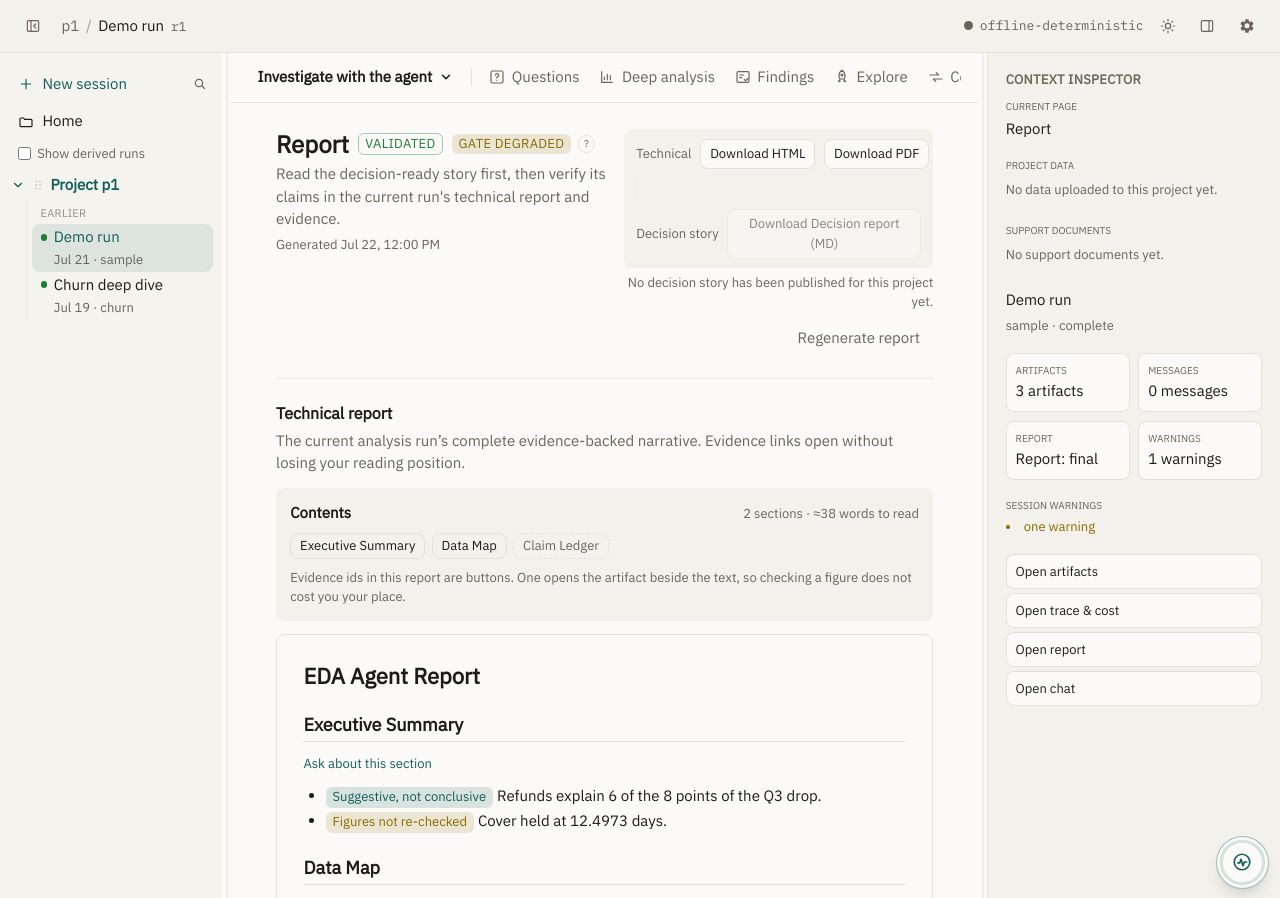
Report reading chrome › still explains a stored report's old gate verdict
expect the text "Gate degraded" is shown: met, box [452,134,571,154]
Click the button named "What is Evidence gate?": (586, 144) [578,135,595,153]
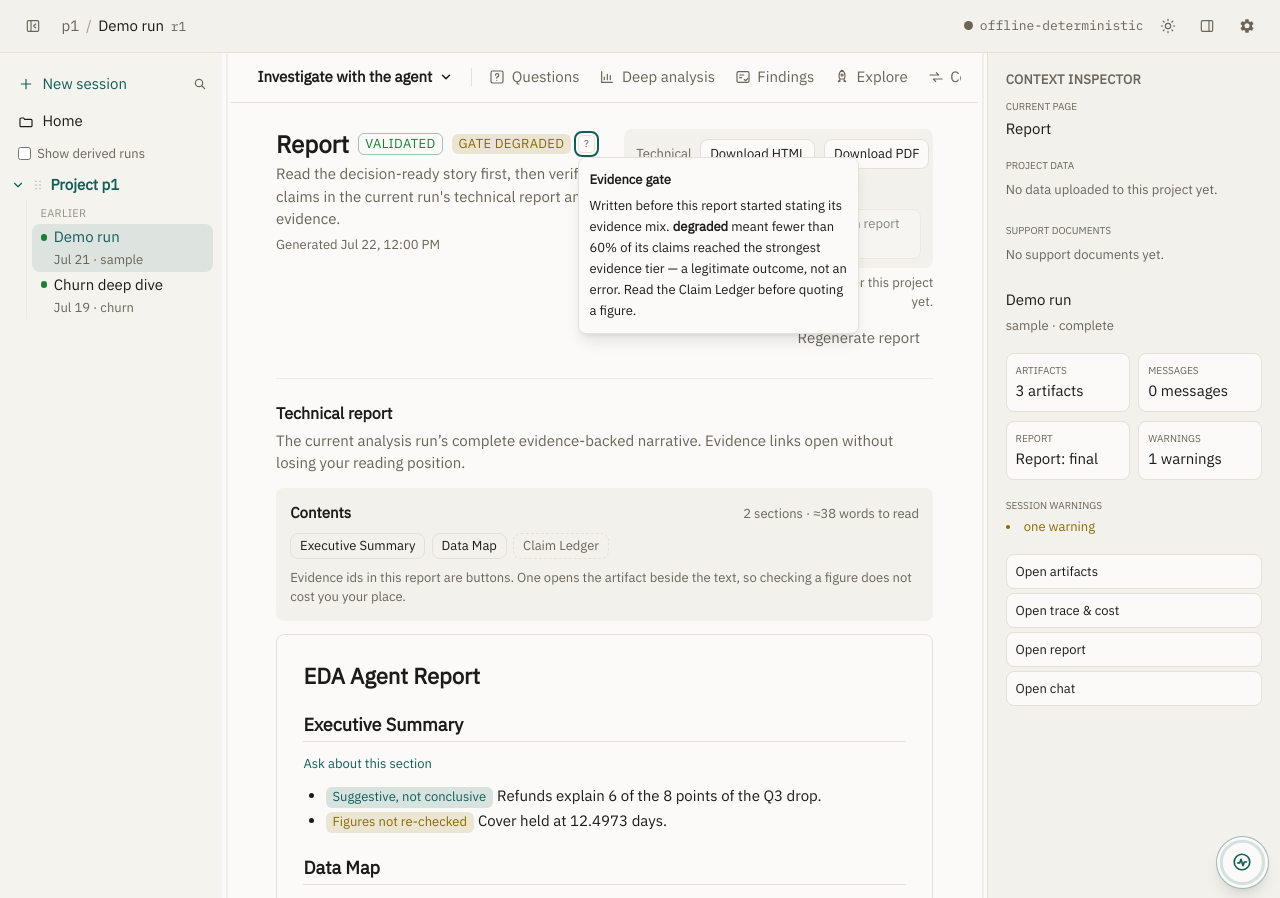
expect the element that starts with "Evidence gate" shows "legitimate outcome, not an error": met, box [590,218,847,319]
